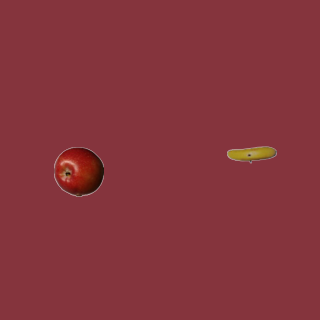Apple Braeburn: (53, 146, 103, 196)
Banana: (226, 129, 276, 179)
